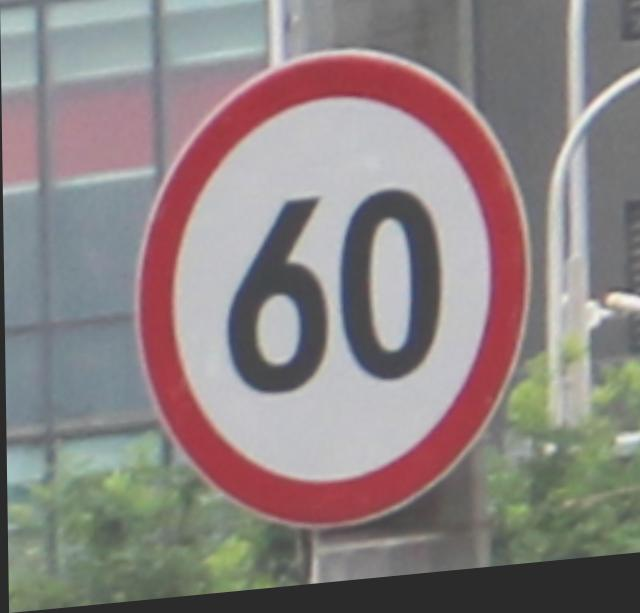limit60: (128, 35, 534, 556)
